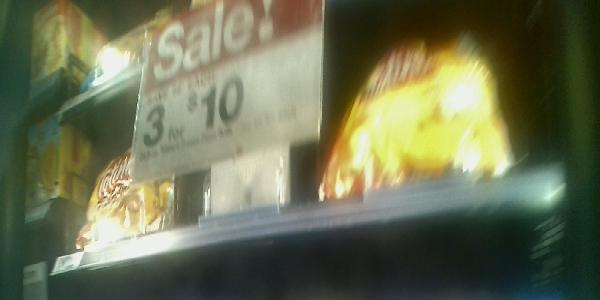icecream: (324, 23, 514, 204), (63, 136, 174, 253)
